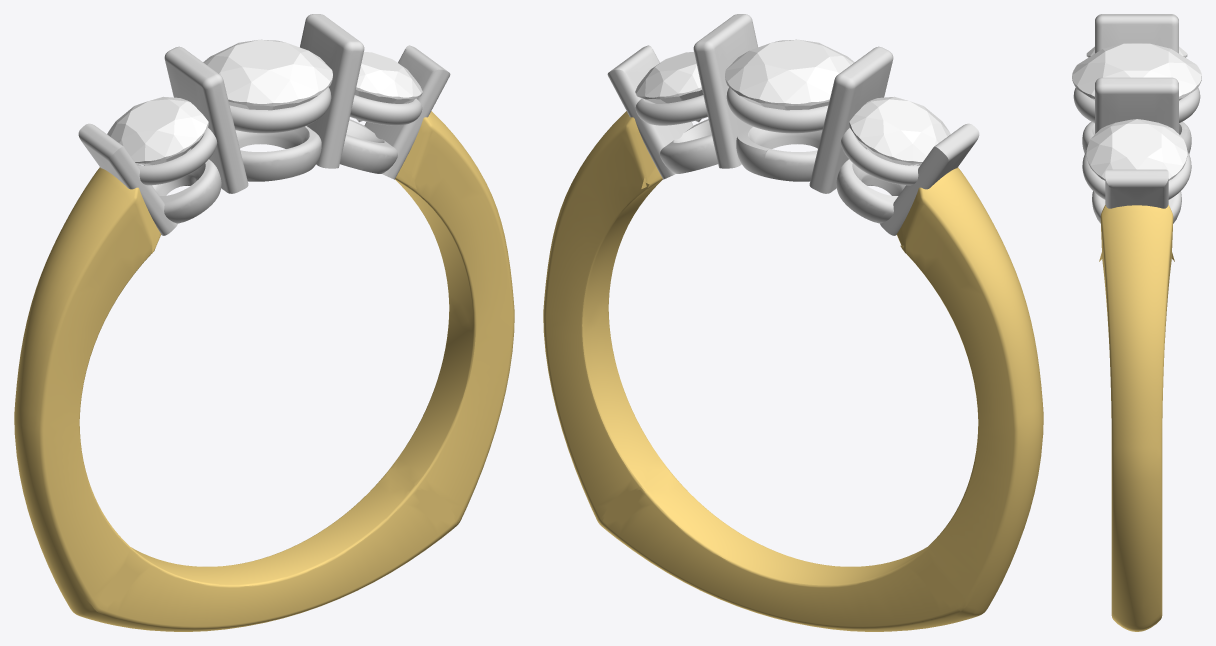
Rendered from cassia_webgi.glb.
3 views of the same model, side by side, from view 1: azimuth 30°, elevation 25°; view 2: azimuth 150°, elevation 25°; view 3: azimuth 270°, elevation 25° (orthographic). The views are drawn at different scales.
Parts seen in each view (by area): view 1: YG_shank_for_3d_model, PT_head_for_3d_model, ameythst_for_3d_model, diamonds_for_3d_model001, diamonds_for_3d_model; view 2: YG_shank_for_3d_model, PT_head_for_3d_model, ameythst_for_3d_model, diamonds_for_3d_model001, diamonds_for_3d_model; view 3: YG_shank_for_3d_model, PT_head_for_3d_model, diamonds_for_3d_model, ameythst_for_3d_model.
Part boxes in pixels (x1,y1,x2,y2): YG_shank_for_3d_model: (14,111,514,631); PT_head_for_3d_model: (78,14,450,235); ameythst_for_3d_model: (203,39,332,110); diamonds_for_3d_model001: (107,96,208,165); diamonds_for_3d_model: (354,51,422,122); YG_shank_for_3d_model: (543,111,1043,631); PT_head_for_3d_model: (607,14,979,235); ameythst_for_3d_model: (725,39,854,110); diamonds_for_3d_model001: (849,96,950,165); diamonds_for_3d_model: (635,51,703,122); YG_shank_for_3d_model: (1099,205,1174,631); PT_head_for_3d_model: (1073,14,1200,223); diamonds_for_3d_model: (1086,119,1187,180); ameythst_for_3d_model: (1072,43,1201,100).
Size of the model in its own units: 2.63 by 2.94 by 0.6362.
